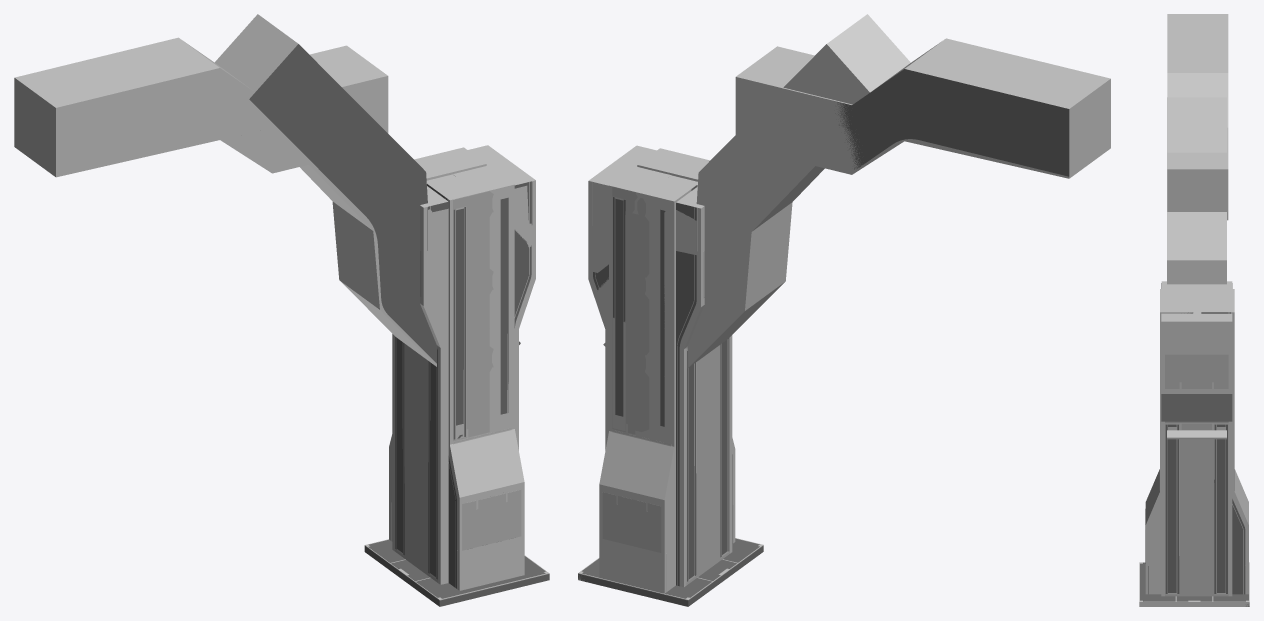
Rendered from SM_Arc_Armory_Column_01A_V3.fbx.
3 views of the same model, side by side, from view 1: azimuth 30°, elevation 25°; view 2: azimuth 150°, elevation 25°; view 3: azimuth 270°, elevation 25° (orthographic). The views are drawn at different scales.
Visible parts, largest first — view 1: SM_Arc_Armory_Column_01A_V3_ConvexHulls, SM_Arc_Armory_Column_01A_V3; view 2: SM_Arc_Armory_Column_01A_V3_ConvexHulls, SM_Arc_Armory_Column_01A_V3; view 3: SM_Arc_Armory_Column_01A_V3_ConvexHulls, SM_Arc_Armory_Column_01A_V3.
Part boxes in pixels (x1,y1,x2,y2): SM_Arc_Armory_Column_01A_V3_ConvexHulls: (14,14,549,600); SM_Arc_Armory_Column_01A_V3: (249,44,549,606); SM_Arc_Armory_Column_01A_V3_ConvexHulls: (578,14,1110,600); SM_Arc_Armory_Column_01A_V3: (578,69,1069,606); SM_Arc_Armory_Column_01A_V3_ConvexHulls: (1139,14,1249,606); SM_Arc_Armory_Column_01A_V3: (1140,283,1249,606).
Bounding box in the file's own units: 2021 × 552 × 2349.
Materials: 4 (3 with a texture image).
